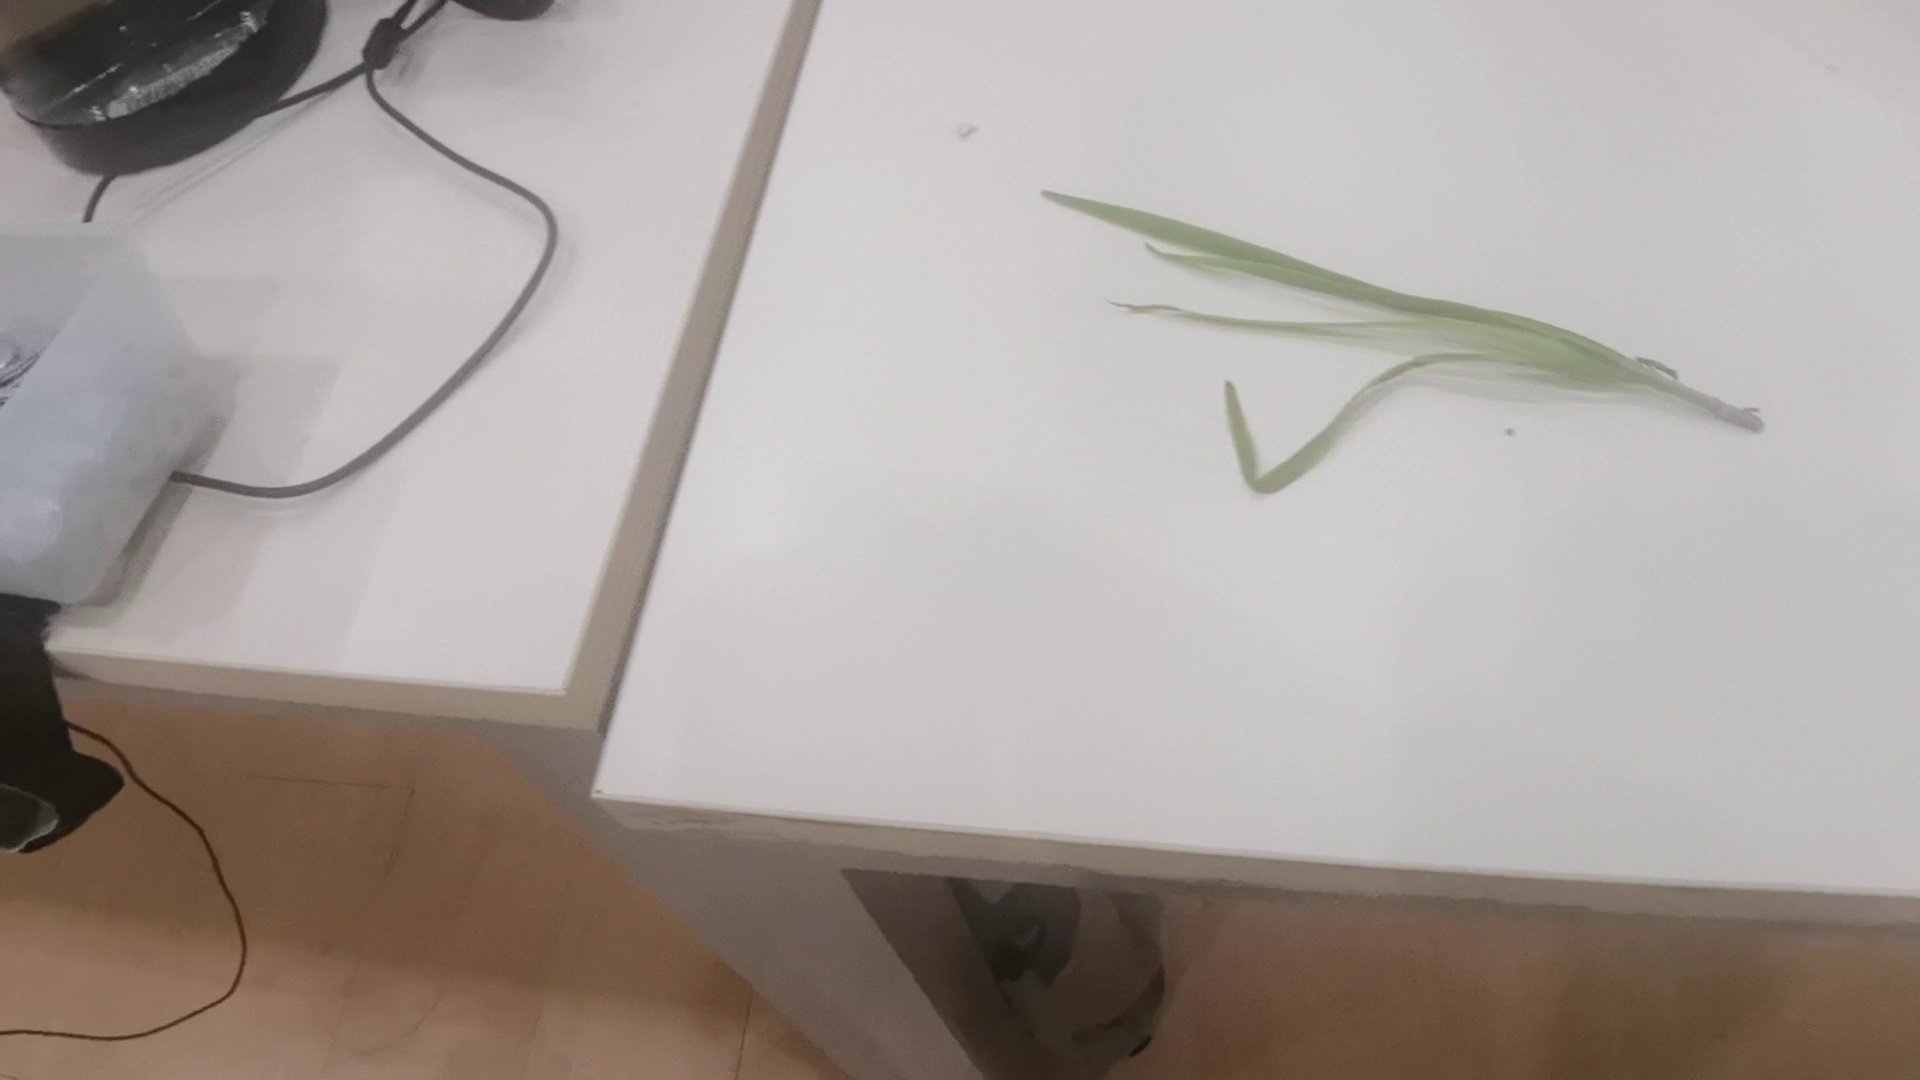chives: (1030, 174, 1768, 501)
